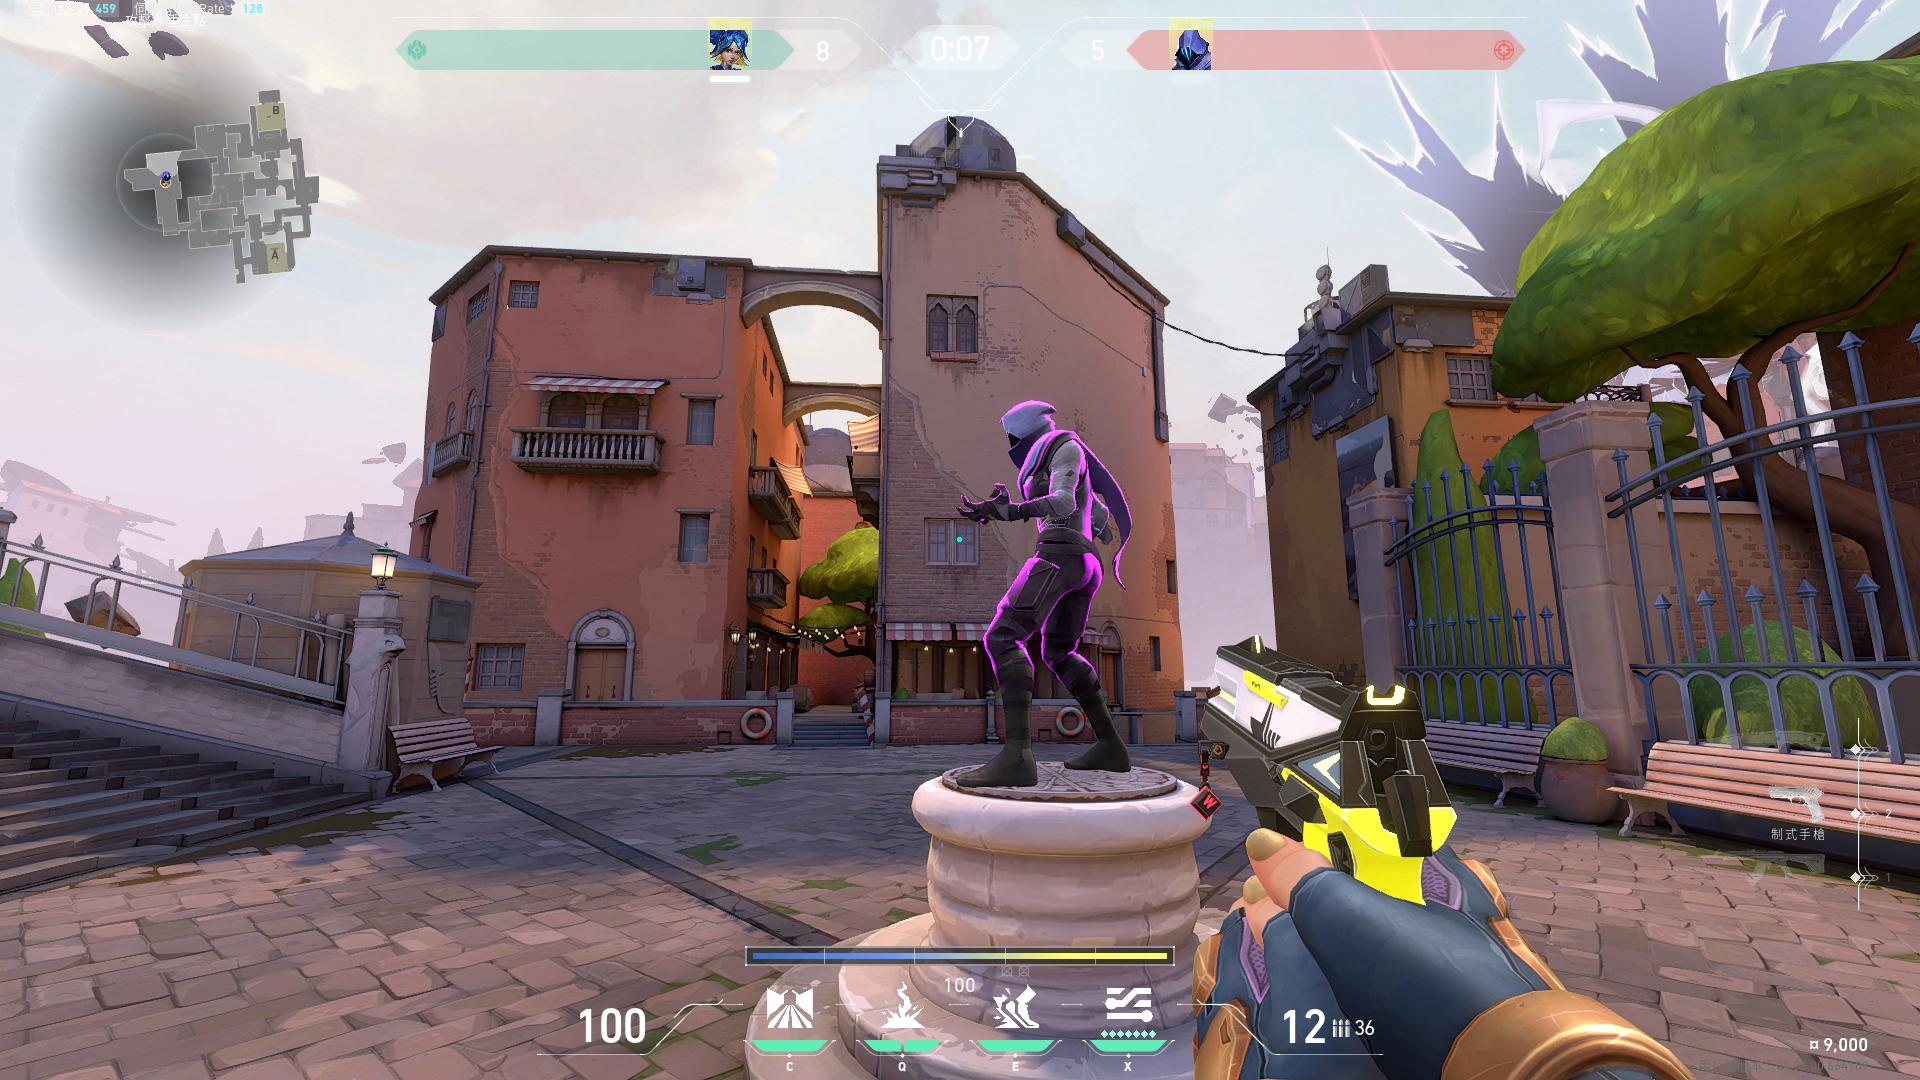enemyHead: (1036, 464, 1095, 553), (1011, 407, 1050, 446)
